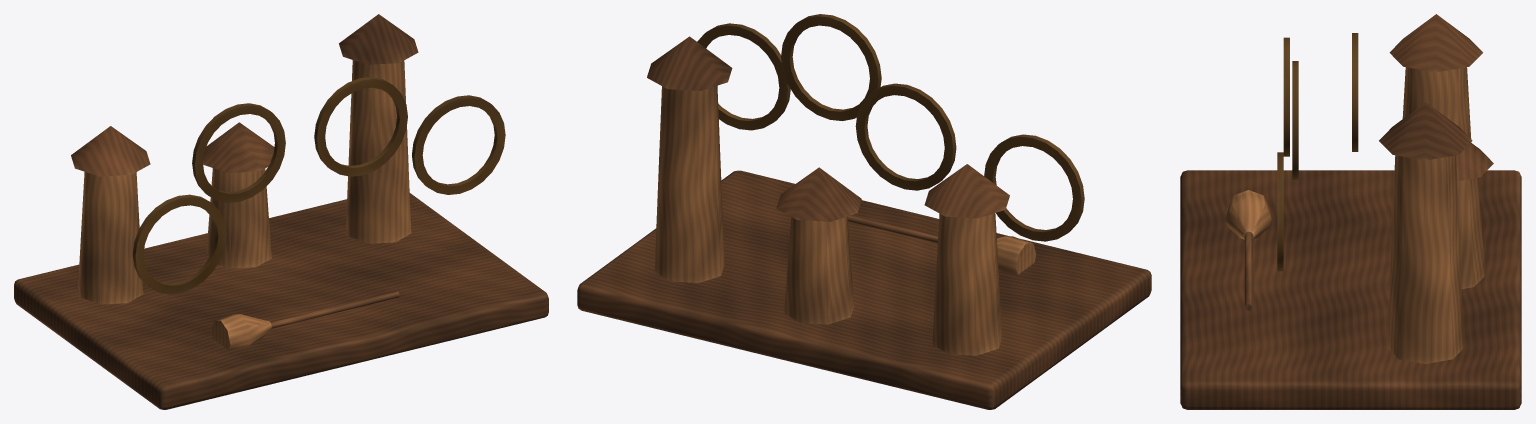
The model's file is Furn_Broom_CourseModel.fbx.
3 renders of one model, left to right at view 1: azimuth 30°, elevation 25°; view 2: azimuth 150°, elevation 25°; view 3: azimuth 270°, elevation 25°, orthographic. The views are drawn at different scales.
Parts seen in each view (by area): view 1: Furn_Broom_CourseModel; view 2: Furn_Broom_CourseModel; view 3: Furn_Broom_CourseModel.
Part boxes in pixels (box(x1,y1,x2,y2)): Furn_Broom_CourseModel: box(14, 14, 548, 409); Furn_Broom_CourseModel: box(577, 14, 1151, 409); Furn_Broom_CourseModel: box(1180, 14, 1521, 409).
Size of the model in its own units: 2.4 by 1.42 by 1.6.
Materials: 3 (3 with a texture image).
